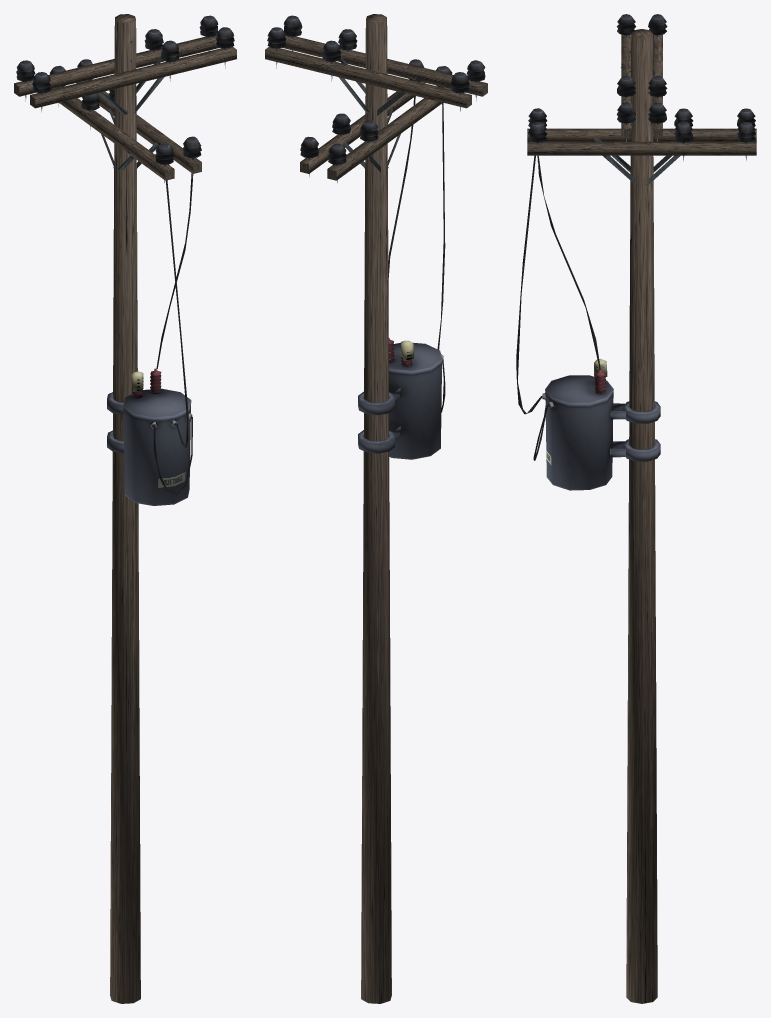
The model's file is pole_wood_f_lod_1.glb.
3 renders of one model, left to right at view 1: azimuth 30°, elevation 25°; view 2: azimuth 150°, elevation 25°; view 3: azimuth 270°, elevation 25°, orthographic.
Visible parts, largest first — view 1: pole_wood_f_lod_1; view 2: pole_wood_f_lod_1; view 3: pole_wood_f_lod_1.
Part boxes in pixels (bbox=[...]): pole_wood_f_lod_1: bbox=[14, 14, 236, 1003]; pole_wood_f_lod_1: bbox=[265, 14, 487, 1003]; pole_wood_f_lod_1: bbox=[516, 14, 756, 1003].
Bounding box in the file's own units: 2.2 × 10.2 × 2.31.
2 materials, 2 textured.
